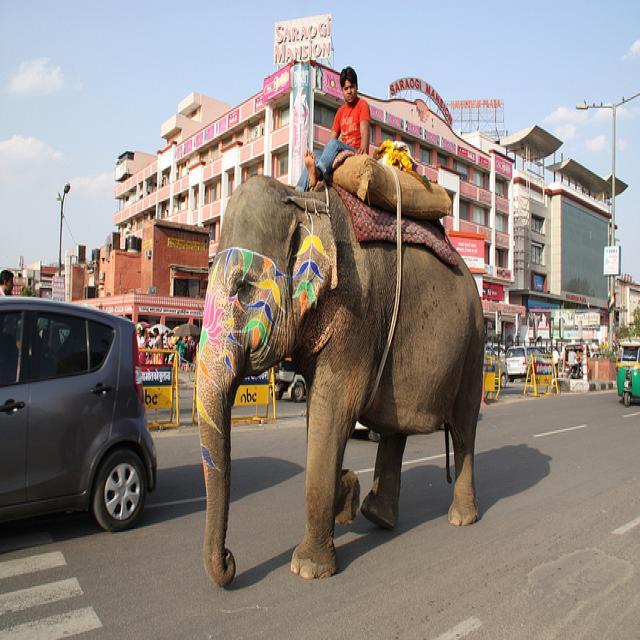motor: (566, 358, 589, 379)
